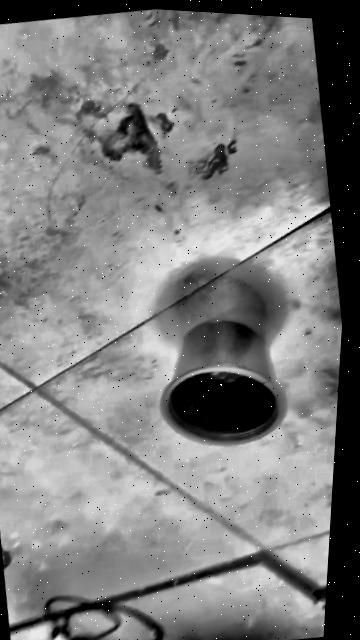pot: (145, 309, 294, 459)
